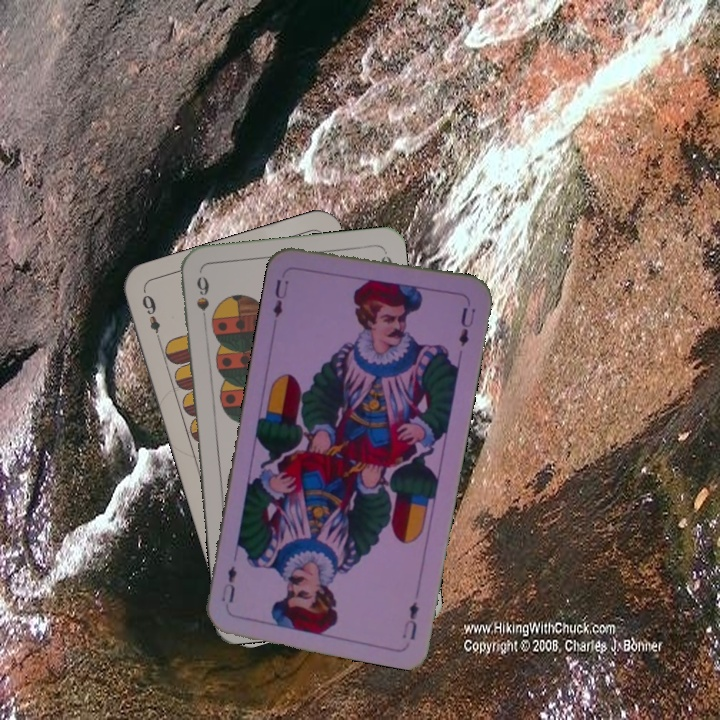E9: (137, 288, 164, 345)
EU: (269, 275, 292, 321), (398, 598, 421, 643)
S9: (192, 272, 212, 329)
